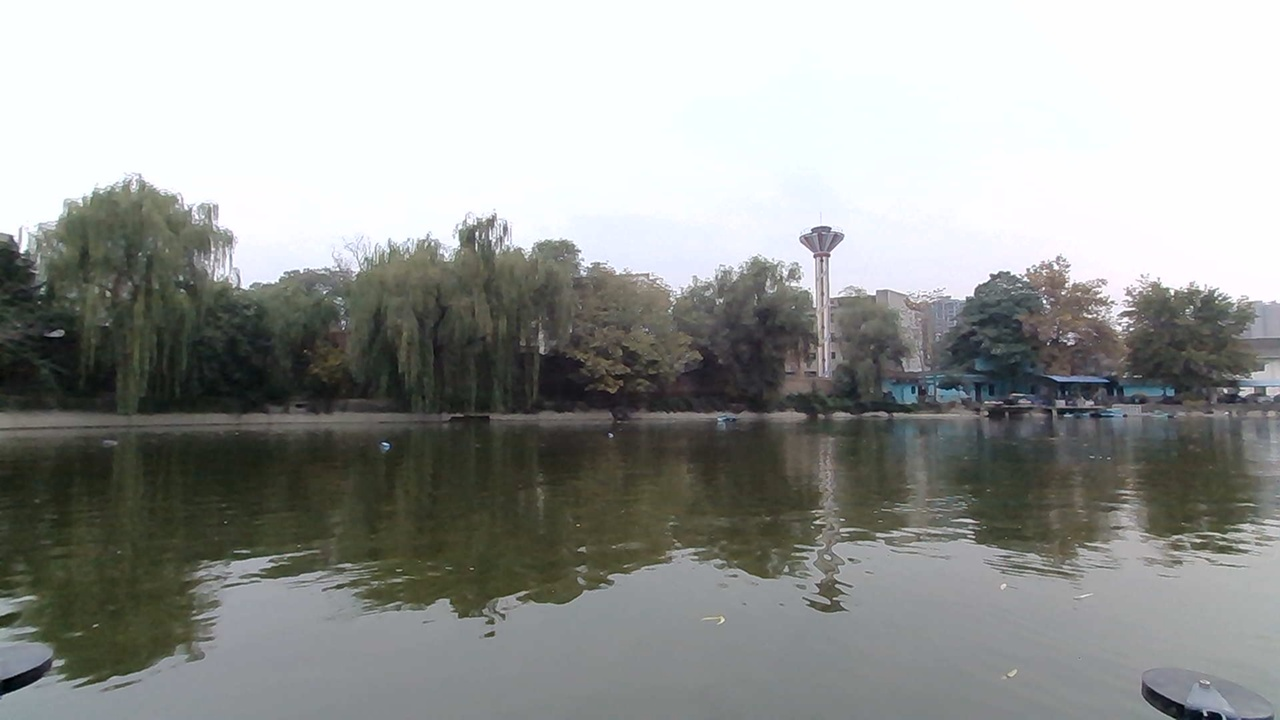bottle: (370, 436, 401, 454)
